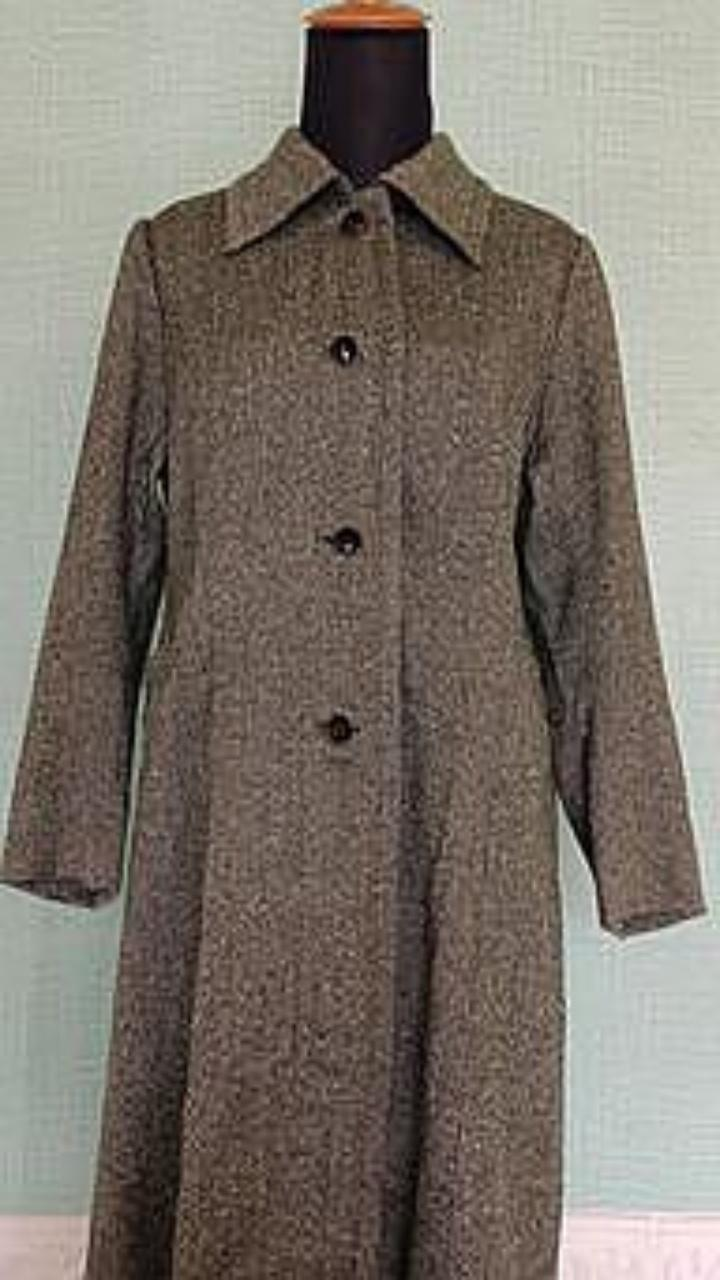Coat: (0, 125, 706, 1279)
